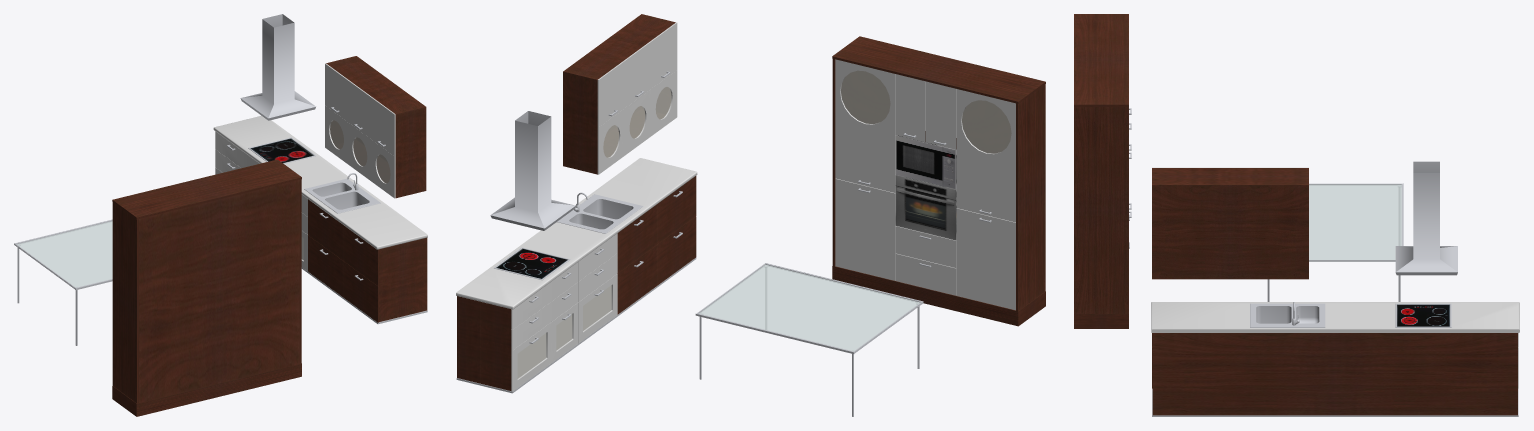
The model's file is Kitchen04.fbx.
The picture shows the model from 3 angles, left to right: view 1: azimuth 30°, elevation 25°; view 2: azimuth 150°, elevation 25°; view 3: azimuth 270°, elevation 25°; orthographic projection. The views are drawn at different scales.
Parts seen in each view (by area): view 1: Wood, White, Blue_Metal_, Crystal, WhiteCrystal_, Ceramic_hob, Metal_; view 2: White, Wood, Crystal, Blue_Metal_, WhiteCrystal_, Oven, Microwave, Ceramic_hob, Metal_; view 3: Wood, White, Blue_Metal_, Crystal, Ceramic_hob, Metal_.
Part boxes in pixels (x1,y1,x2,y2): Wood: (112,56,427,416); White: (213,63,427,271); Blue_Metal_: (14,14,427,345); Crystal: (17,221,112,287); WhiteCrystal_: (301,120,390,260); Ceramic_hob: (250,138,313,162); Metal_: (227,107,385,280); White: (456,22,1015,391); Wood: (457,14,1045,390); Crystal: (699,264,920,351); Blue_Metal_: (456,111,923,416); WhiteCrystal_: (517,70,1011,378); Oven: (895,175,956,240); Microwave: (895,135,956,189); Ceramic_hob: (496,248,567,278); Metal_: (494,71,991,343); Wood: (1074,14,1517,415); White: (1151,167,1519,388); Blue_Metal_: (1152,161,1518,416); Crystal: (1309,184,1401,261); Ceramic_hob: (1397,304,1449,326); Metal_: (1129,108,1451,327).
Size of the model in its own units: 4.22 by 2.58 by 4.45.
